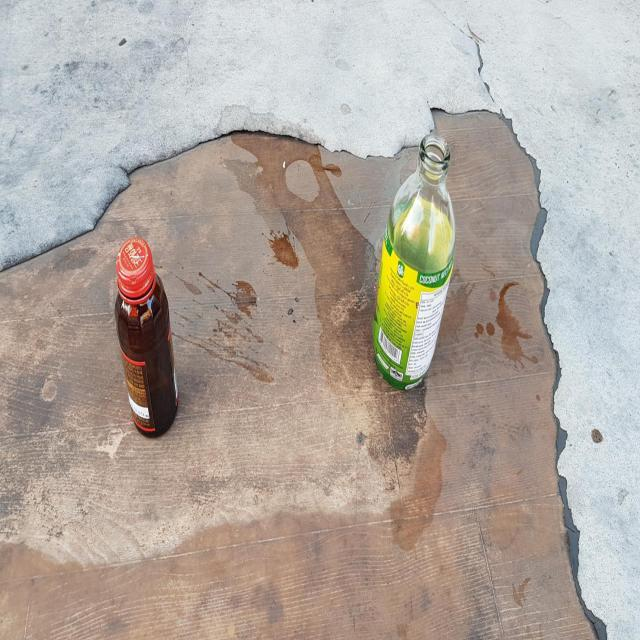glass: (373, 132, 456, 389), (114, 236, 178, 435)
